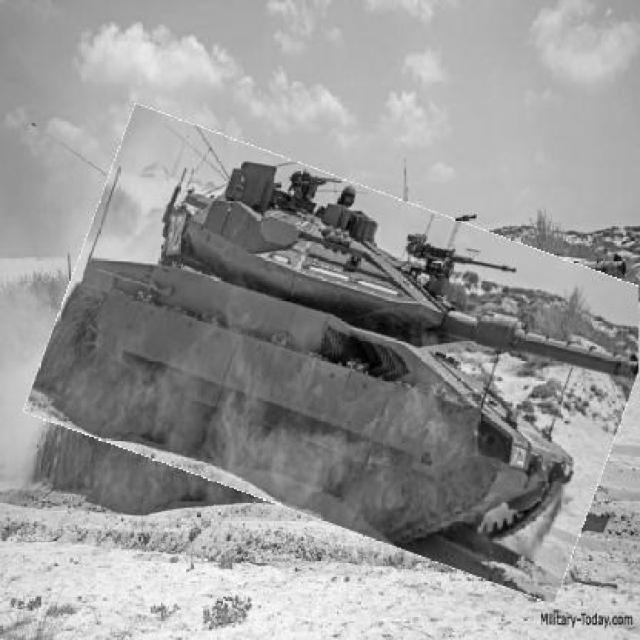Tank: (43, 147, 640, 561)
